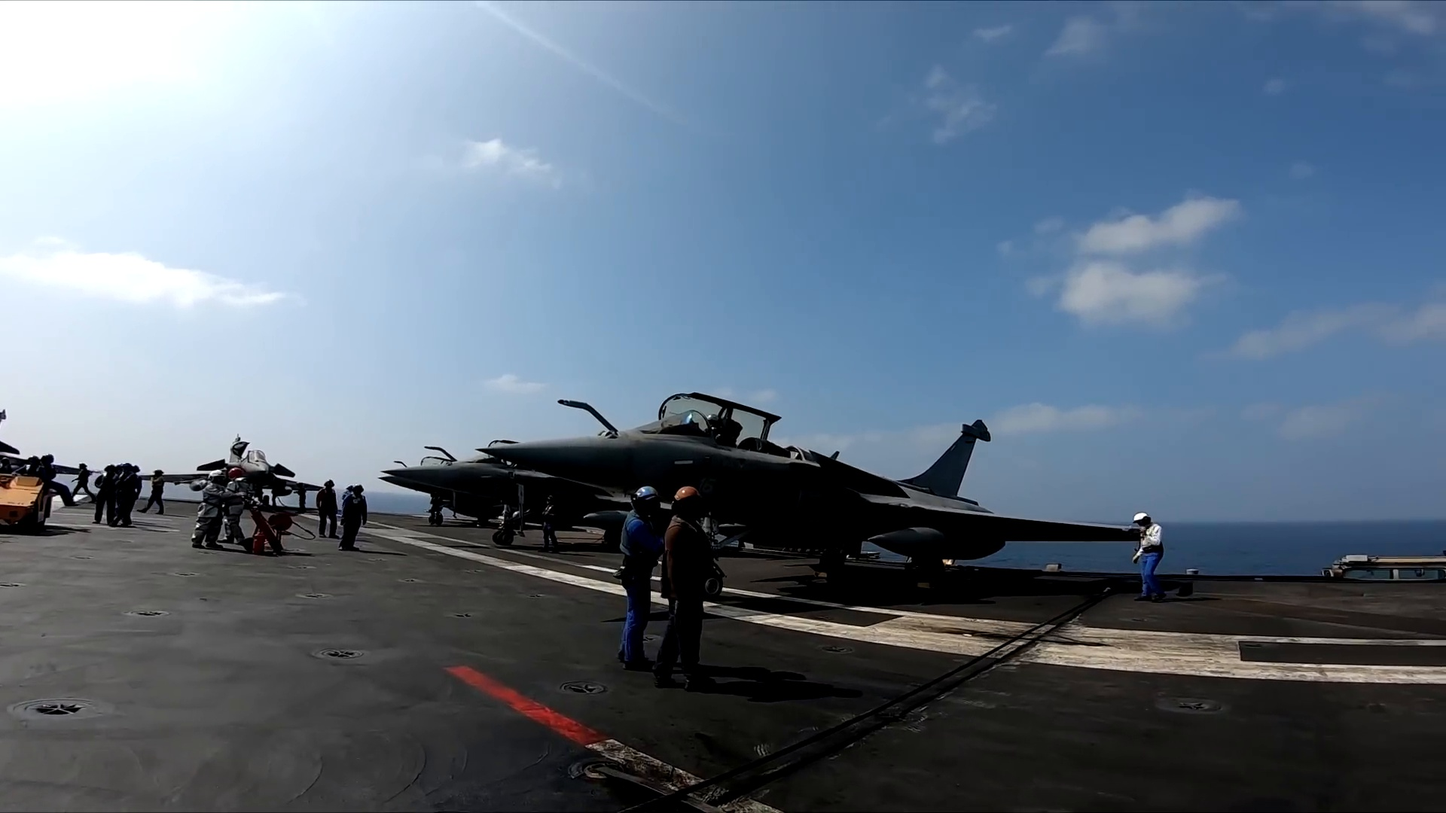Rafale: (477, 392, 1142, 581), (132, 419, 335, 541), (382, 444, 610, 538)
